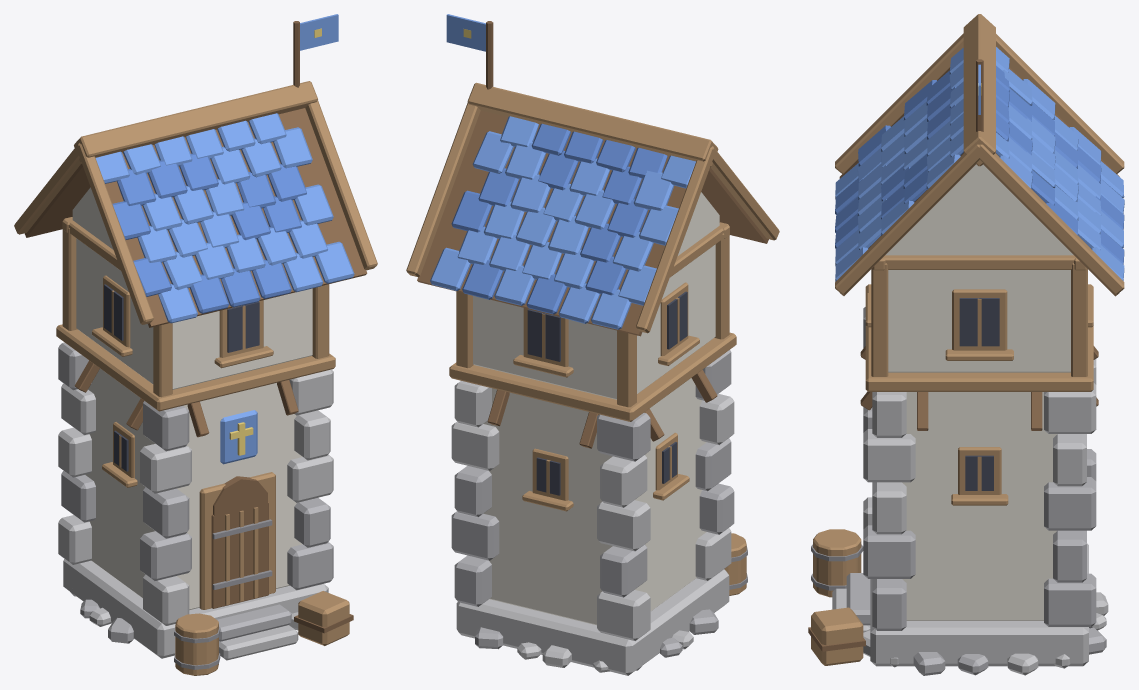
The model's file is test_tower_detailed.glb.
3 renders of one model, left to right at view 1: azimuth 30°, elevation 25°; view 2: azimuth 150°, elevation 25°; view 3: azimuth 270°, elevation 25°, orthographic. The views are drawn at different scales.
Visible parts, largest first — view 1: TestTowerDetailed; view 2: TestTowerDetailed; view 3: TestTowerDetailed.
Part boxes in pixels (x1,y1,x2,y2): TestTowerDetailed: [14, 14, 377, 675]; TestTowerDetailed: [406, 14, 779, 675]; TestTowerDetailed: [808, 14, 1124, 675].
Size of the model in its own units: 3.48 by 7.15 by 3.33.
